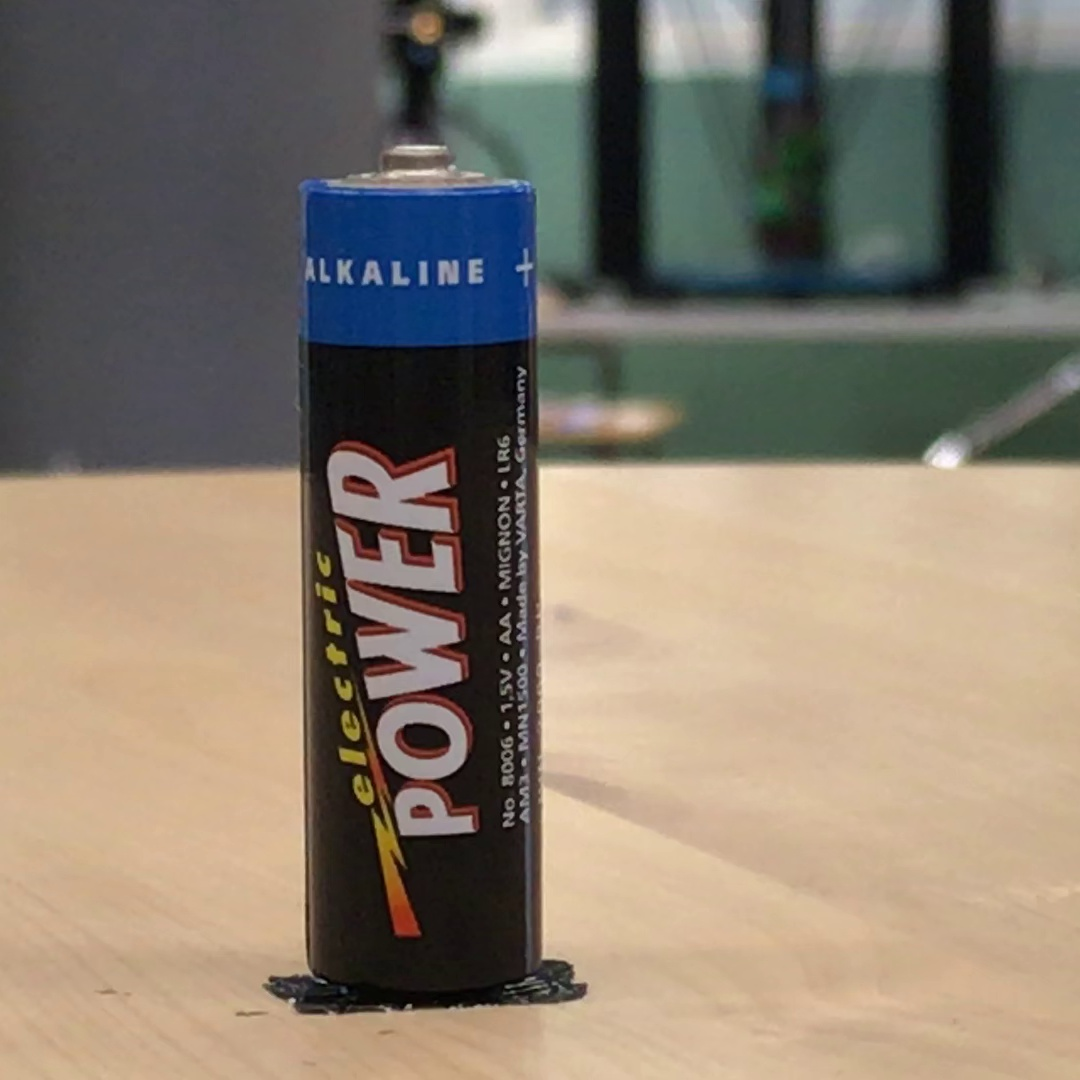keyword: (491, 660, 522, 722), (489, 426, 519, 482)
